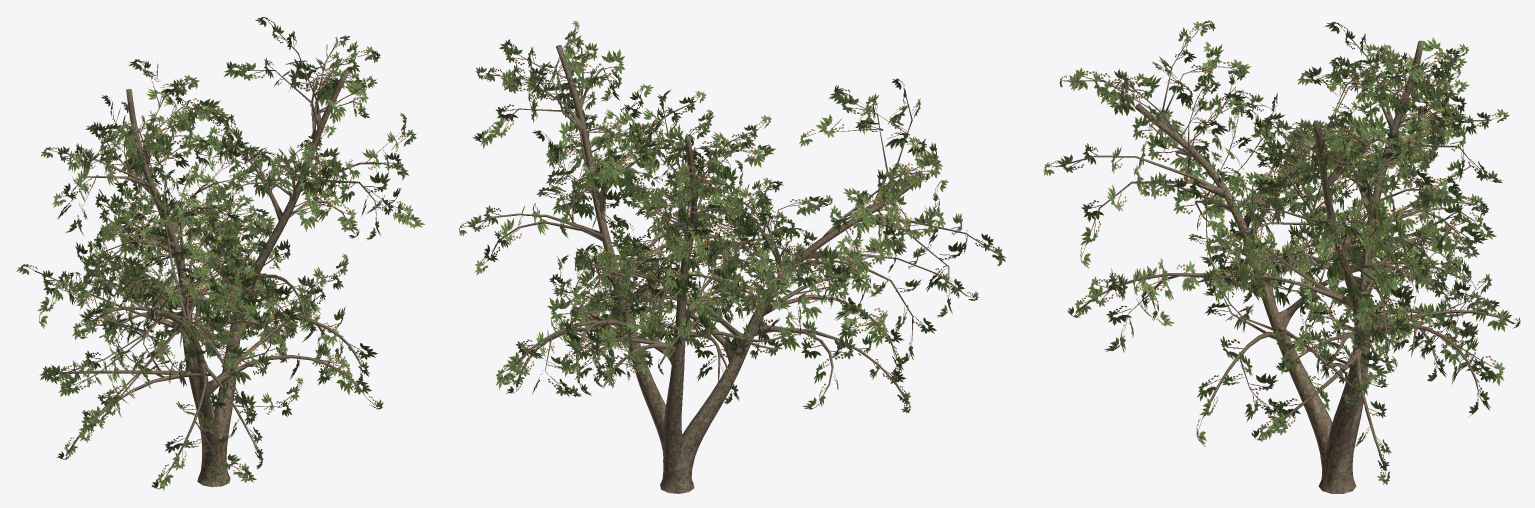
The model's file is Plane_Tree.fbx.
The picture shows the model from 3 angles, left to right: view 1: azimuth 30°, elevation 25°; view 2: azimuth 150°, elevation 25°; view 3: azimuth 270°, elevation 25°; orthographic projection. The views are drawn at different scales.
Visible parts, largest first — view 1: Plane_Tree_Leaf, Plane_Tree_Bark; view 2: Plane_Tree_Leaf, Plane_Tree_Bark; view 3: Plane_Tree_Leaf, Plane_Tree_Bark.
Boxes of the visible parts, x1,y1,x2,y2 form: Plane_Tree_Leaf: [16, 17, 425, 491]; Plane_Tree_Bark: [34, 25, 402, 487]; Plane_Tree_Leaf: [459, 20, 1006, 413]; Plane_Tree_Bark: [468, 37, 999, 493]; Plane_Tree_Leaf: [1043, 20, 1520, 484]; Plane_Tree_Bark: [1056, 29, 1514, 493].
Size of the model in its own units: 1199 by 1199 by 1077.
